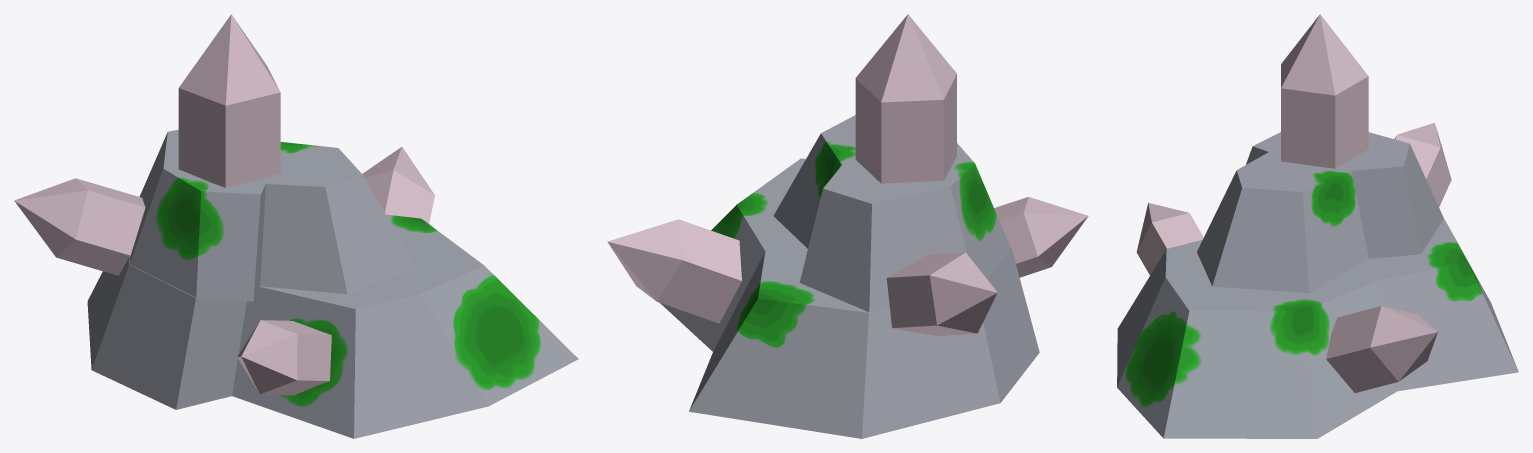
File: CuarzoMusgo1.fbx
3 renders of one model, left to right at view 1: azimuth 30°, elevation 25°; view 2: azimuth 150°, elevation 25°; view 3: azimuth 270°, elevation 25°, orthographic. The views are drawn at different scales.
Visible parts, largest first — view 1: base.038, cuarzo.018, cuarzo.015, cuarzo.016, cuarzo.017; view 2: base.038, cuarzo.018, cuarzo.017, cuarzo.015, cuarzo.016; view 3: base.038, cuarzo.018, cuarzo.017, cuarzo.016, cuarzo.015.
Boxes of the visible parts, x1,y1,x2,y2 form: base.038: (87,129,578,438); cuarzo.018: (178,14,280,187); cuarzo.015: (14,178,145,275); cuarzo.016: (237,320,331,395); cuarzo.017: (362,147,434,223); base.038: (660,115,1039,438); cuarzo.018: (855,14,956,183); cuarzo.017: (607,219,741,323); cuarzo.015: (886,252,997,335); cuarzo.016: (994,196,1088,277); base.038: (1117,132,1518,438); cuarzo.018: (1281,14,1368,168); cuarzo.017: (1326,306,1437,392); cuarzo.016: (1136,203,1203,275); cuarzo.015: (1394,122,1451,206).
Bounding box in the file's own units: 146 × 116 × 136.
